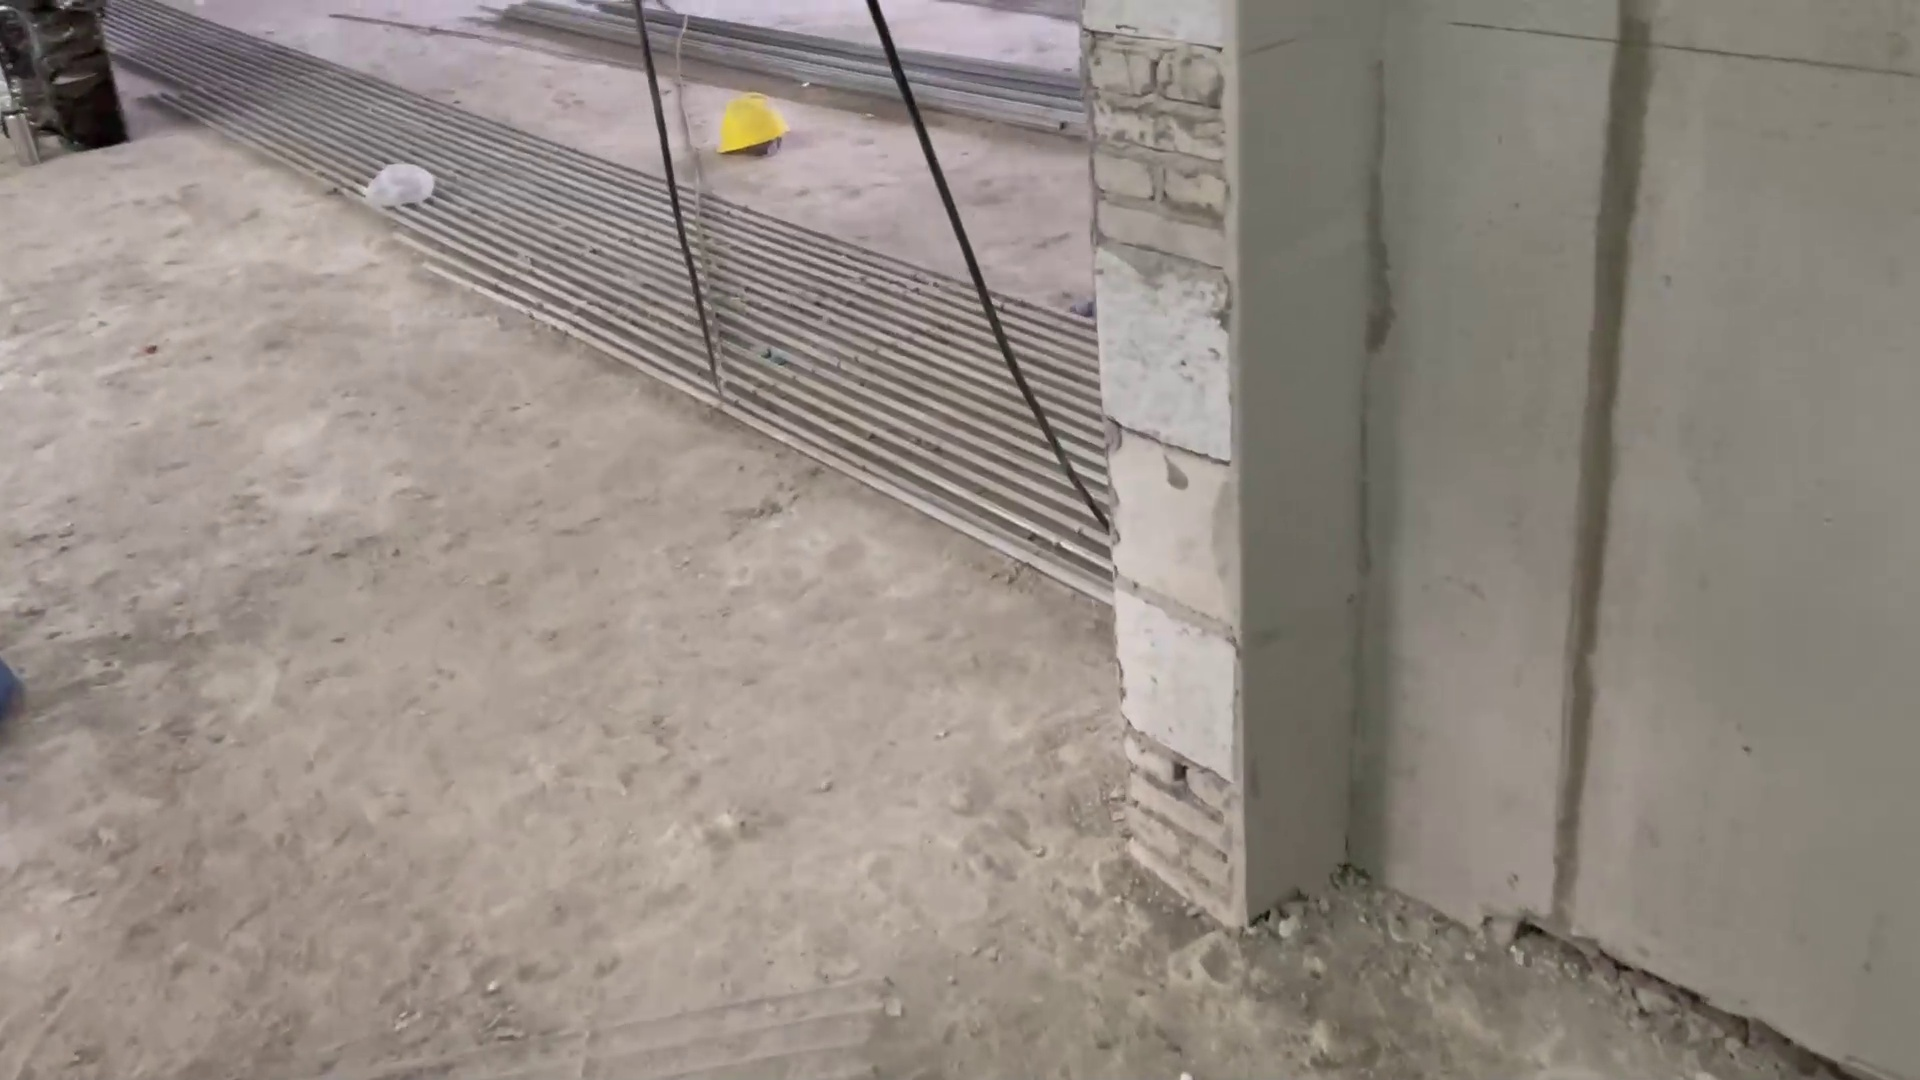helmet: (707, 84, 793, 158)
